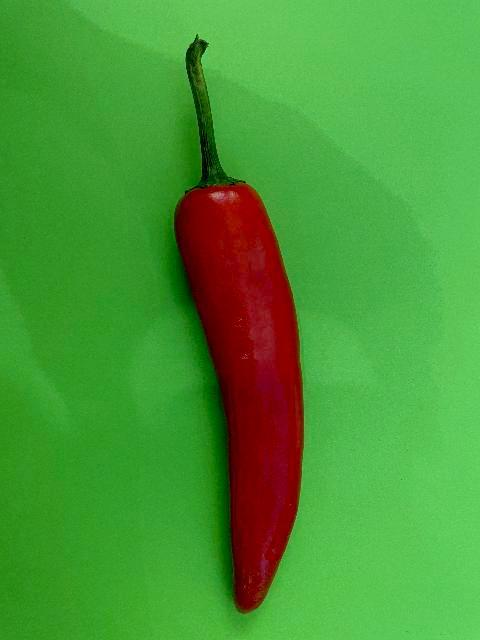chilli: (172, 34, 306, 616)
